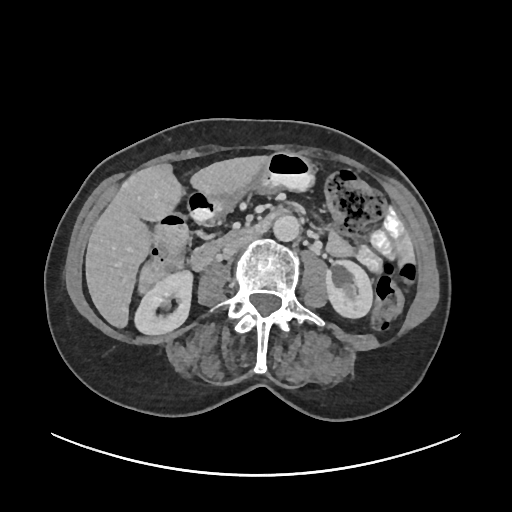Lesion: (328, 259, 358, 289)
